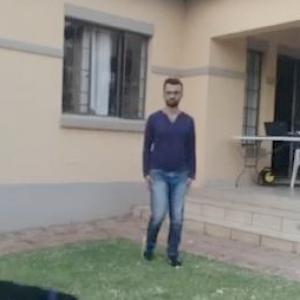follow: (137, 77, 198, 268)
